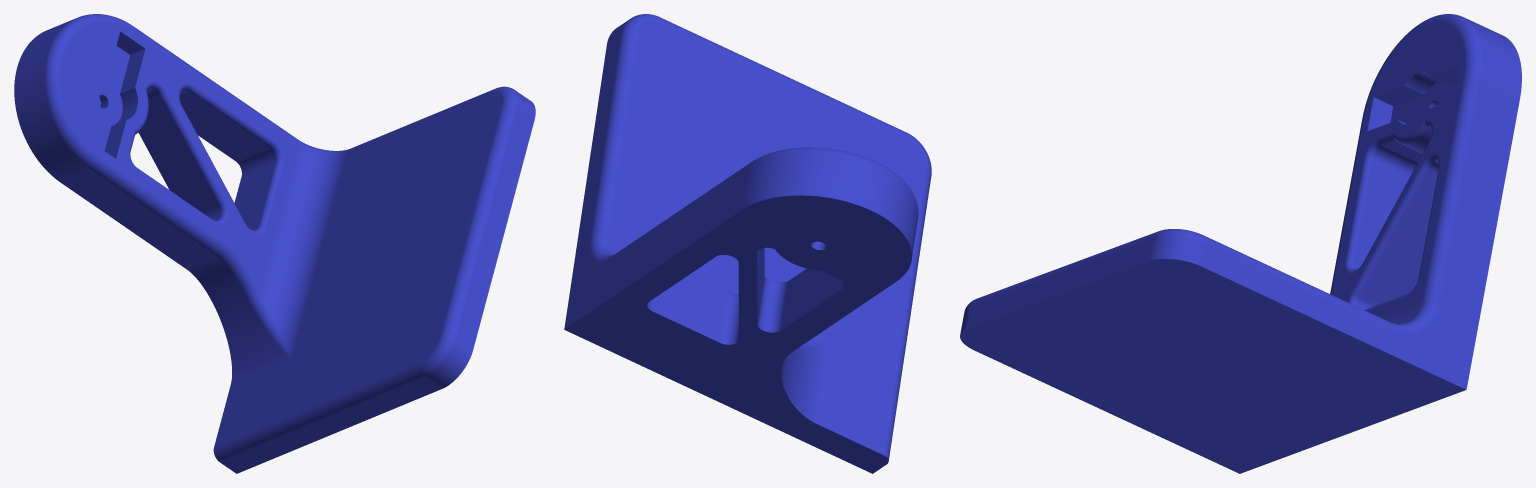
Rendered from carthingstand.glb.
The picture shows the model from 3 angles, left to right: view 1: azimuth 30°, elevation 25°; view 2: azimuth 150°, elevation 25°; view 3: azimuth 270°, elevation 25°; orthographic projection. The views are drawn at different scales.
Size of the model in its own units: 0.0779 by 0.0743 by 0.0894.
